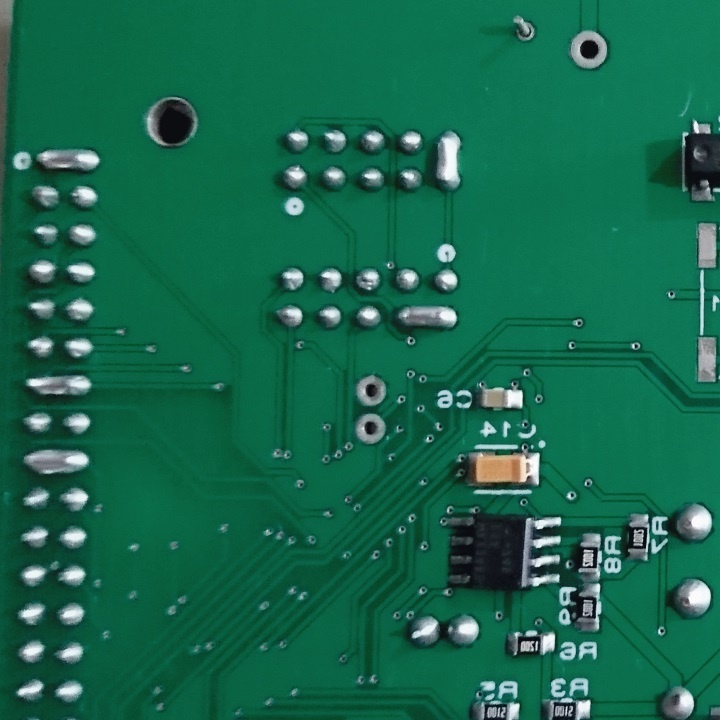F: (567, 29, 611, 72), (354, 409, 388, 452), (353, 372, 390, 408), (510, 9, 537, 44)
P: (18, 446, 93, 479), (430, 124, 464, 195), (393, 301, 461, 336), (23, 371, 97, 399), (33, 146, 101, 174)
